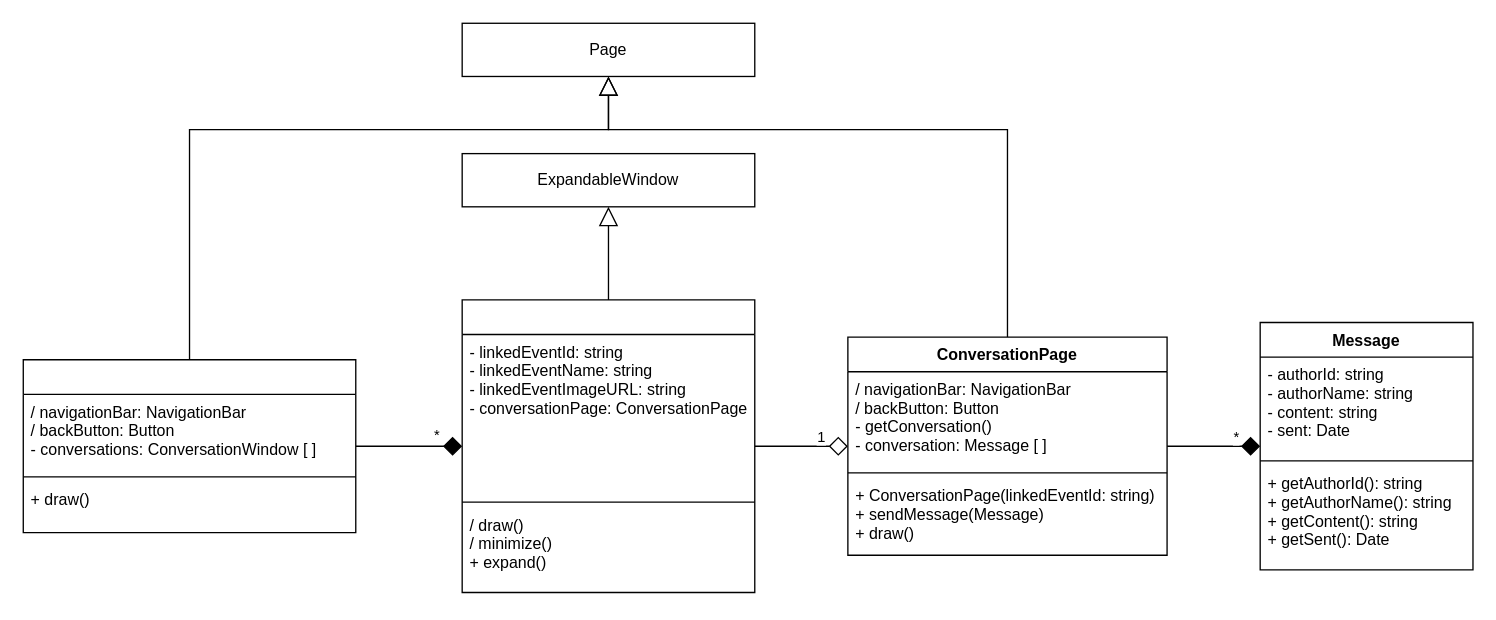
Some shapes in this 1496 by 620 pixel diagram are drawn without their labels. Each missing label, with the box of its shape:
ConversationWindow: (461, 299, 755, 593)
MessagesPage: (22, 358, 356, 533)
